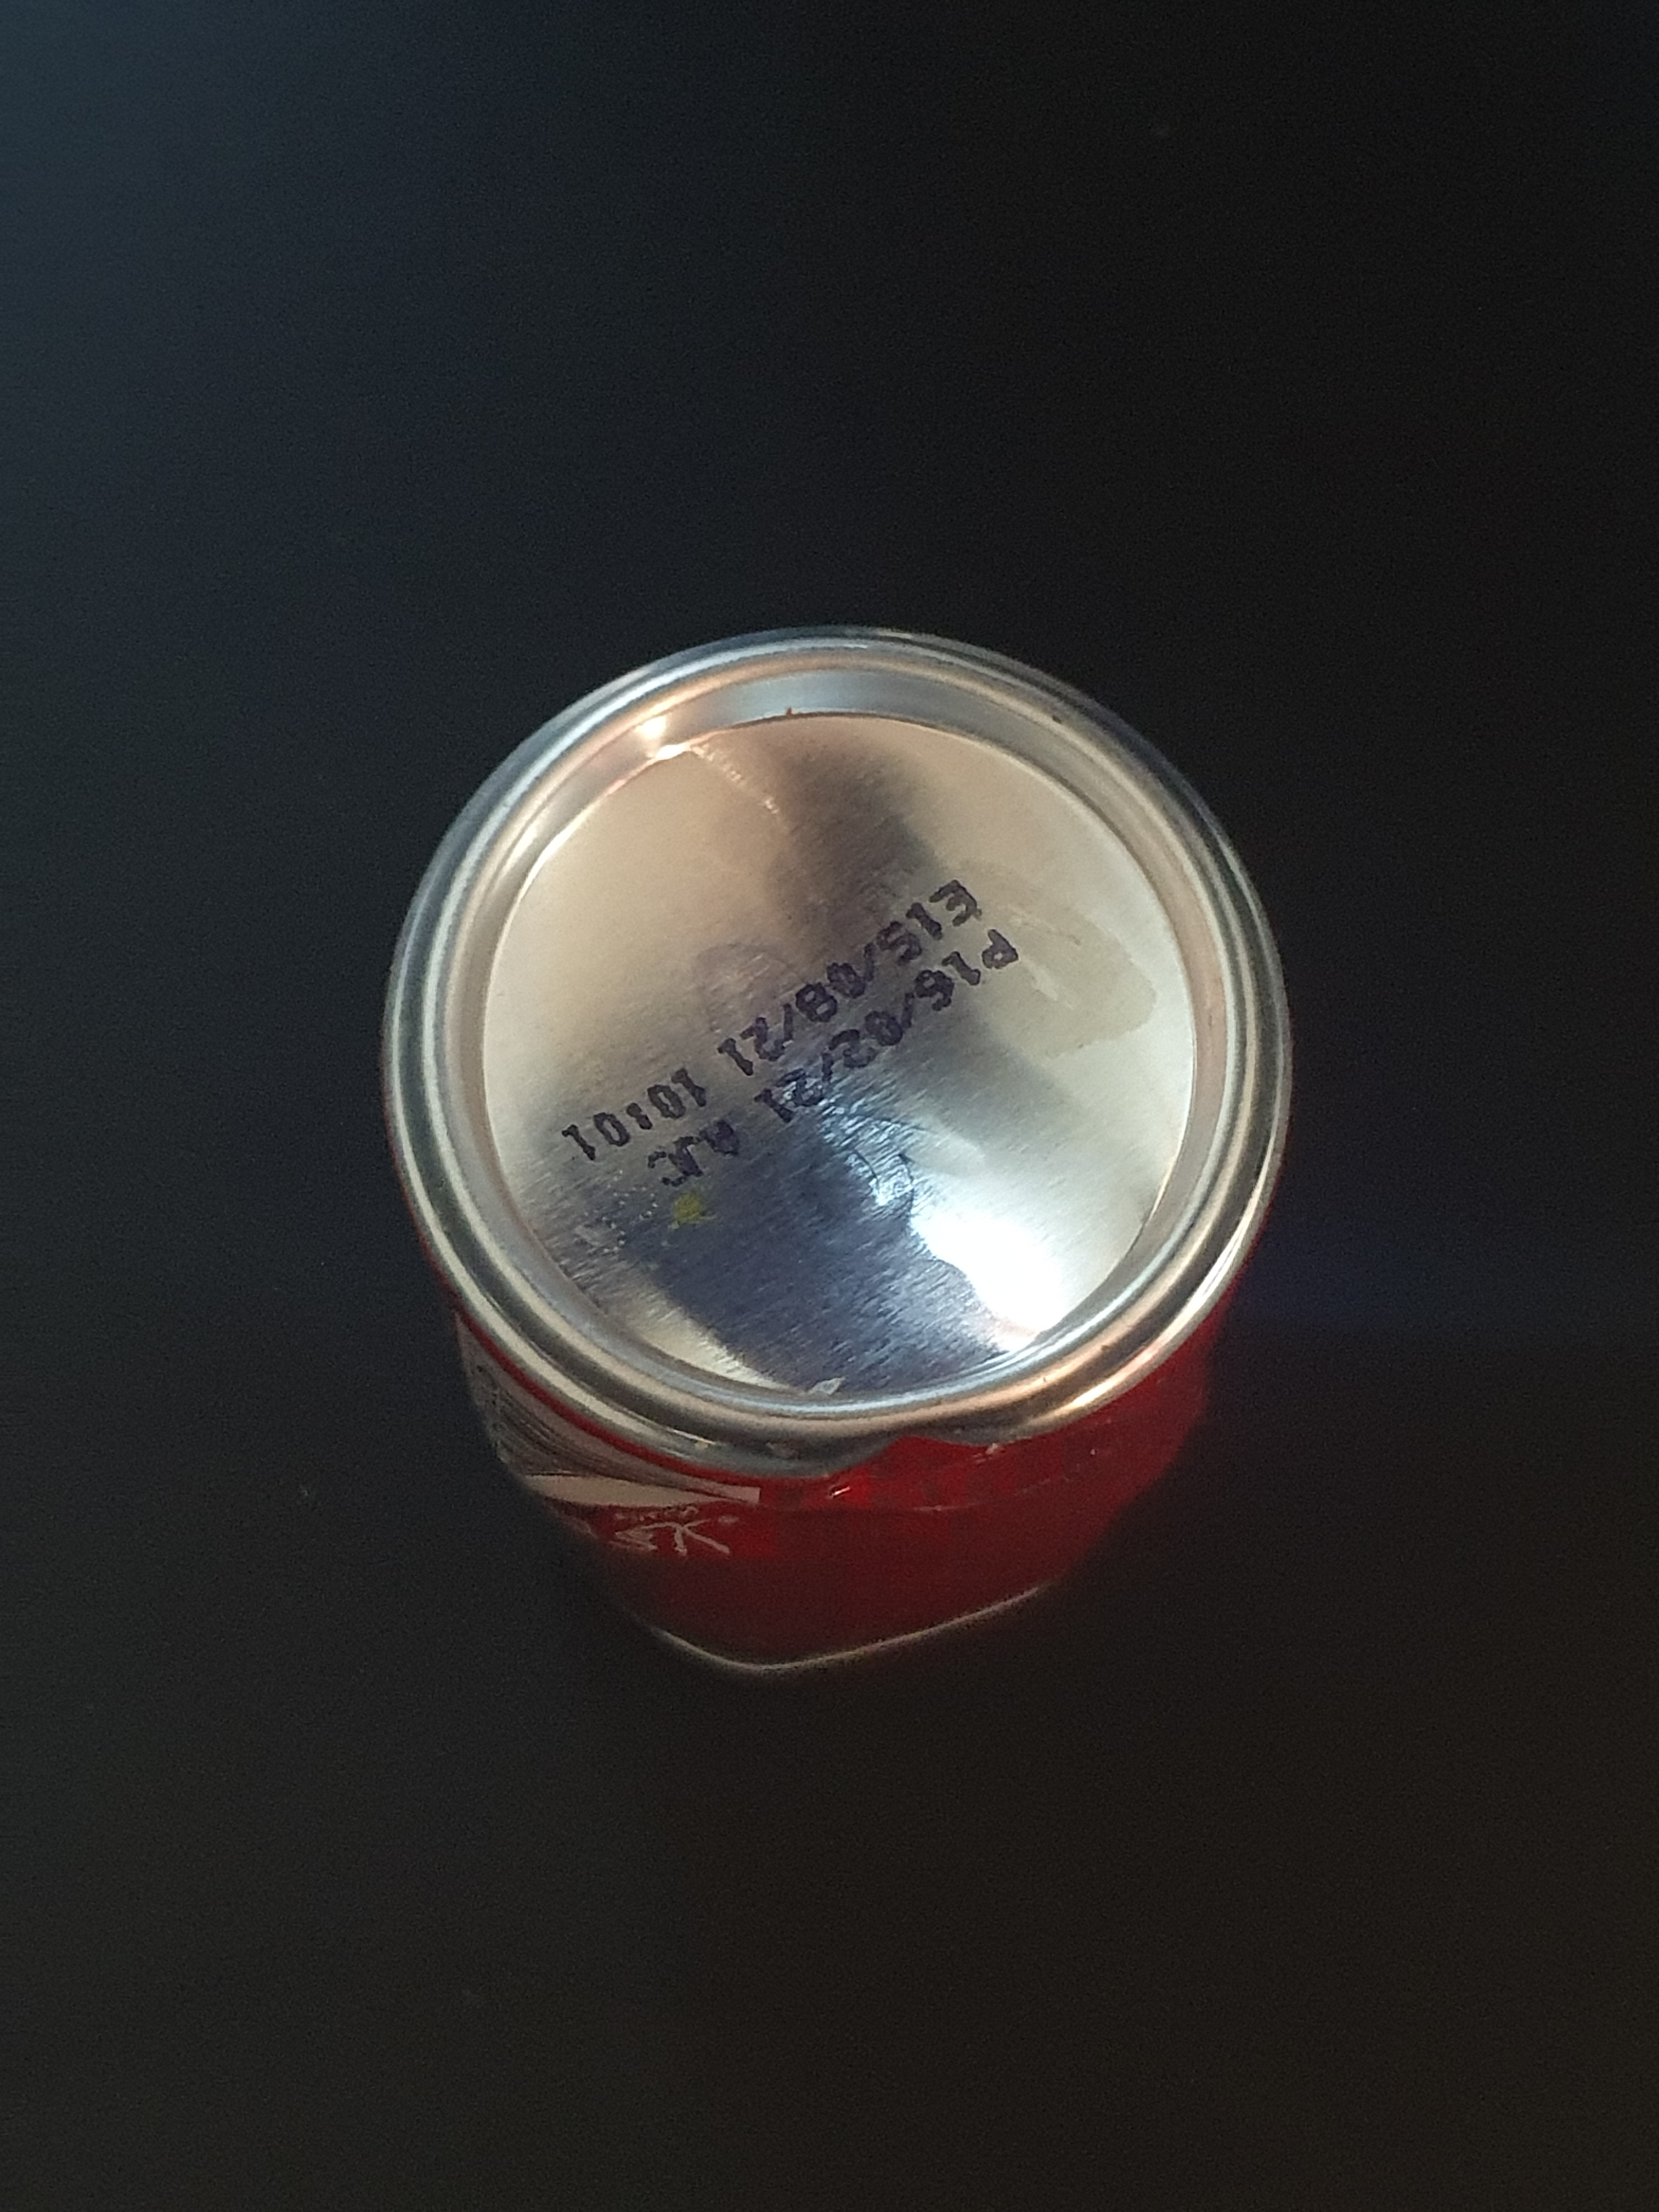metal: (326, 585, 1335, 1745)
